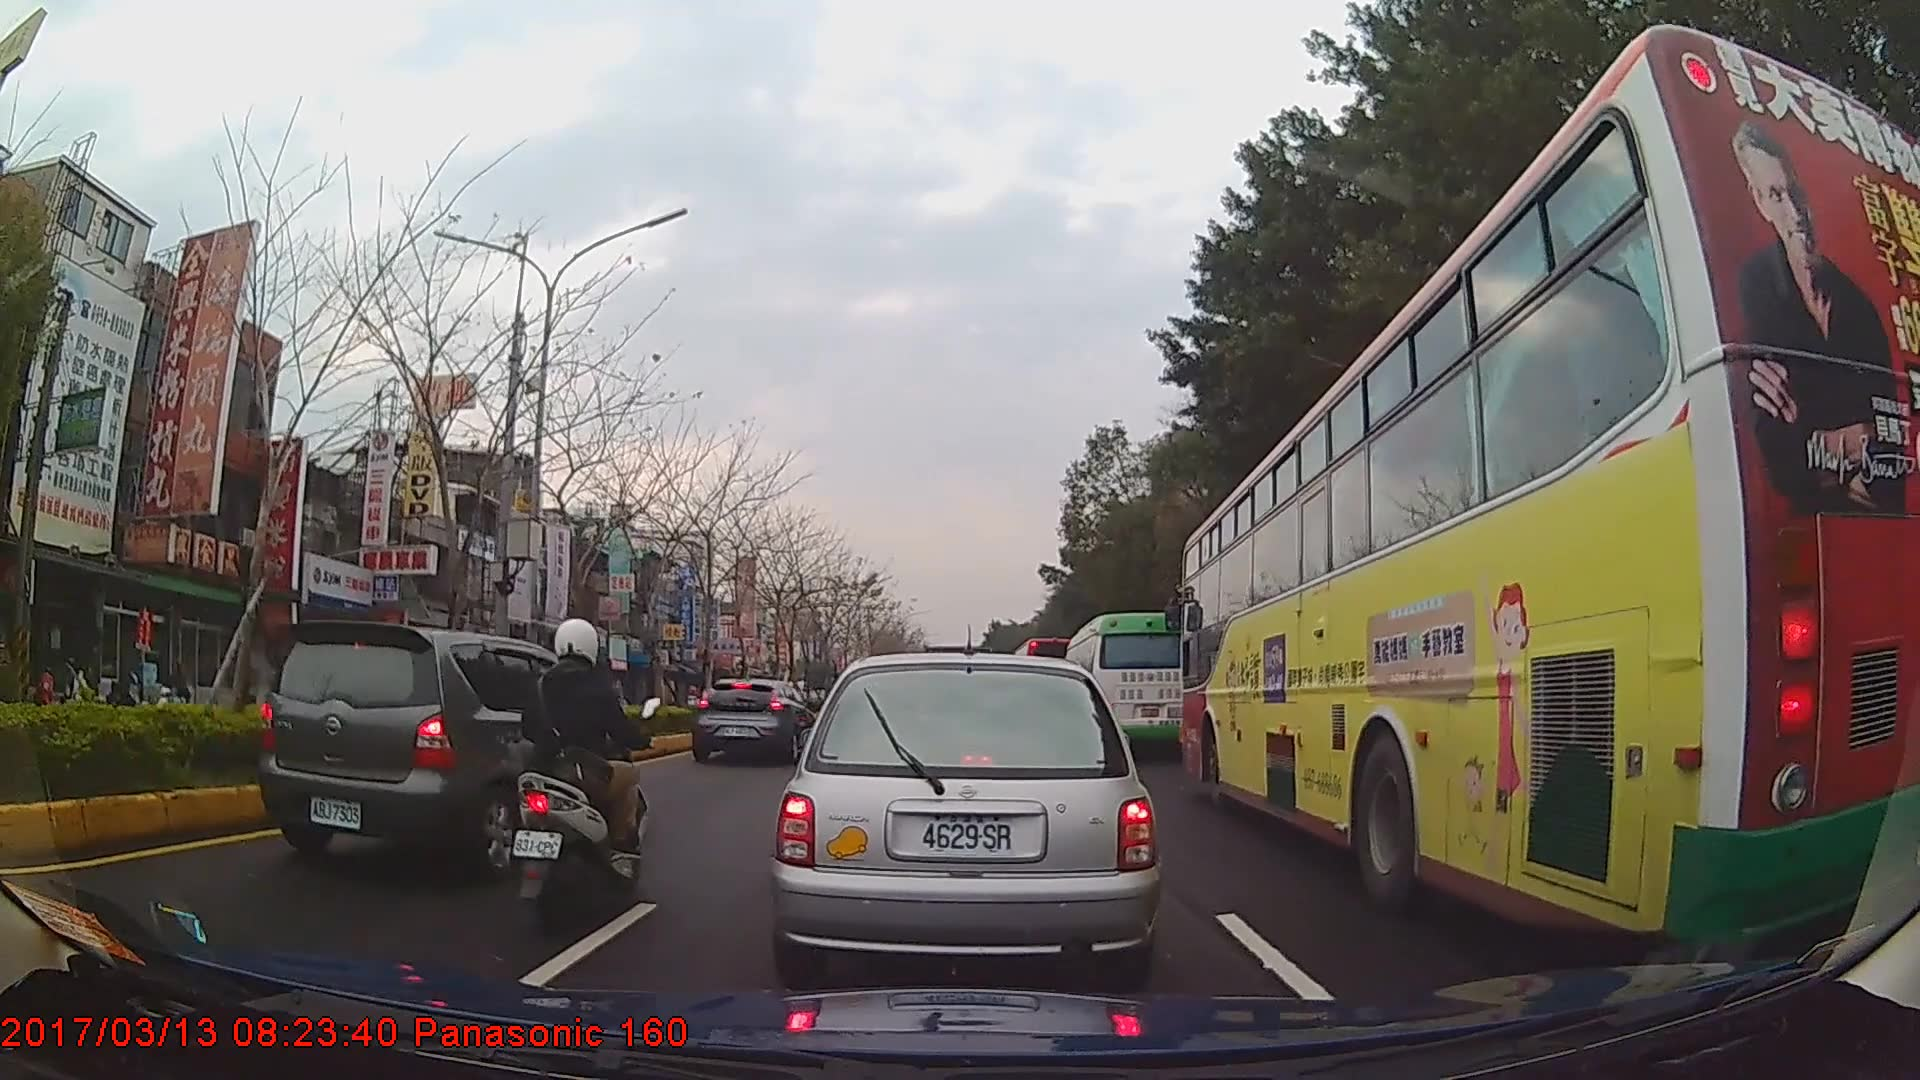rider: (508, 615, 653, 922), (156, 656, 191, 704)
vehicle: (1179, 18, 1920, 951), (771, 650, 1157, 986), (259, 617, 630, 875), (1061, 610, 1193, 761), (690, 676, 816, 766)
